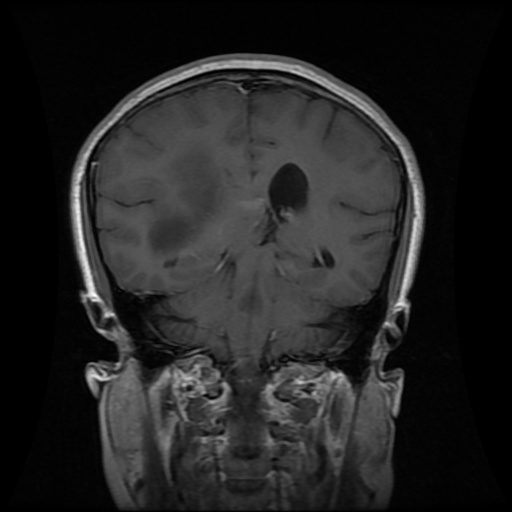glioma: (149, 148, 223, 253)
